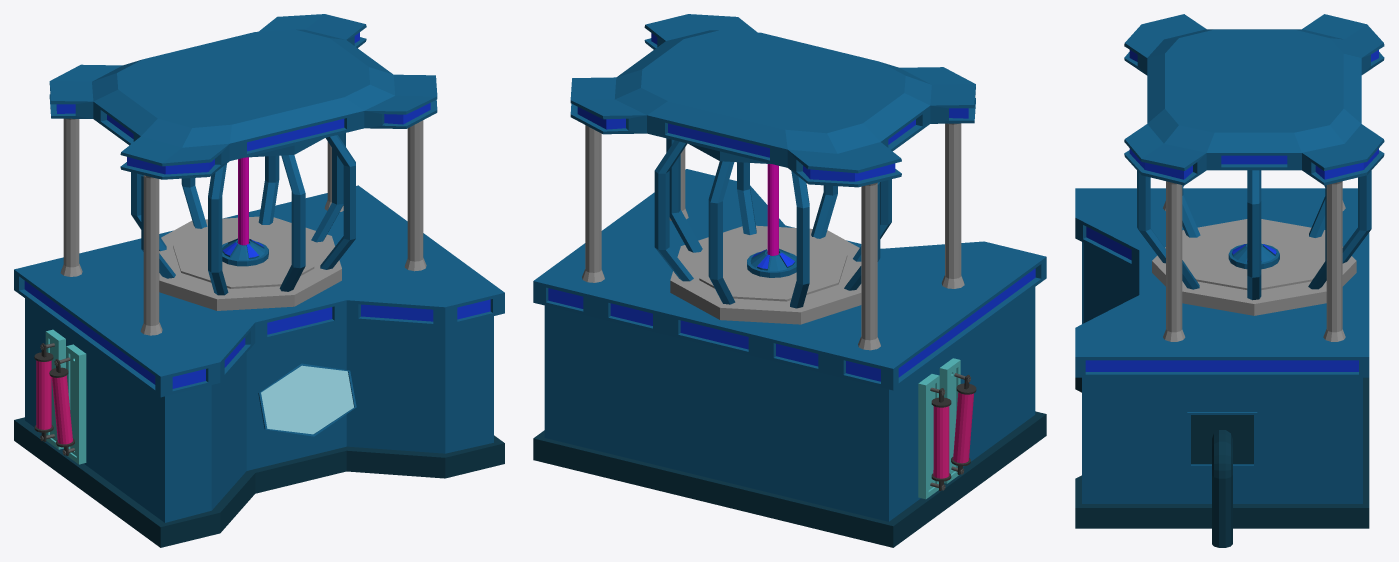
File: generatorrework.fbx
3 renders of one model, left to right at view 1: azimuth 30°, elevation 25°; view 2: azimuth 150°, elevation 25°; view 3: azimuth 270°, elevation 25°, orthographic. The views are drawn at different scales.
Parts seen in each view (by area): view 1: Generator, powercell; view 2: Generator, powercell; view 3: Generator.
Boxes of the visible parts, left/top/right/bottom form: Generator: left=14, top=14, right=504, bottom=547; powercell: left=49, top=357, right=74, bottom=455; Generator: left=533, top=14, right=1046, bottom=547; powercell: left=951, top=373, right=976, bottom=474; Generator: left=1075, top=14, right=1384, bottom=547.
Size of the model in its own units: 545 by 466 by 359.
